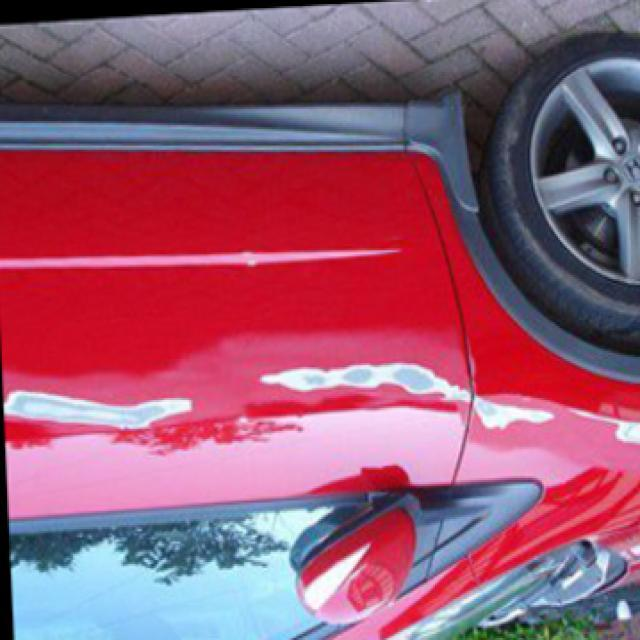scratch: (255, 360, 558, 442), (9, 378, 200, 448), (572, 398, 640, 468)
